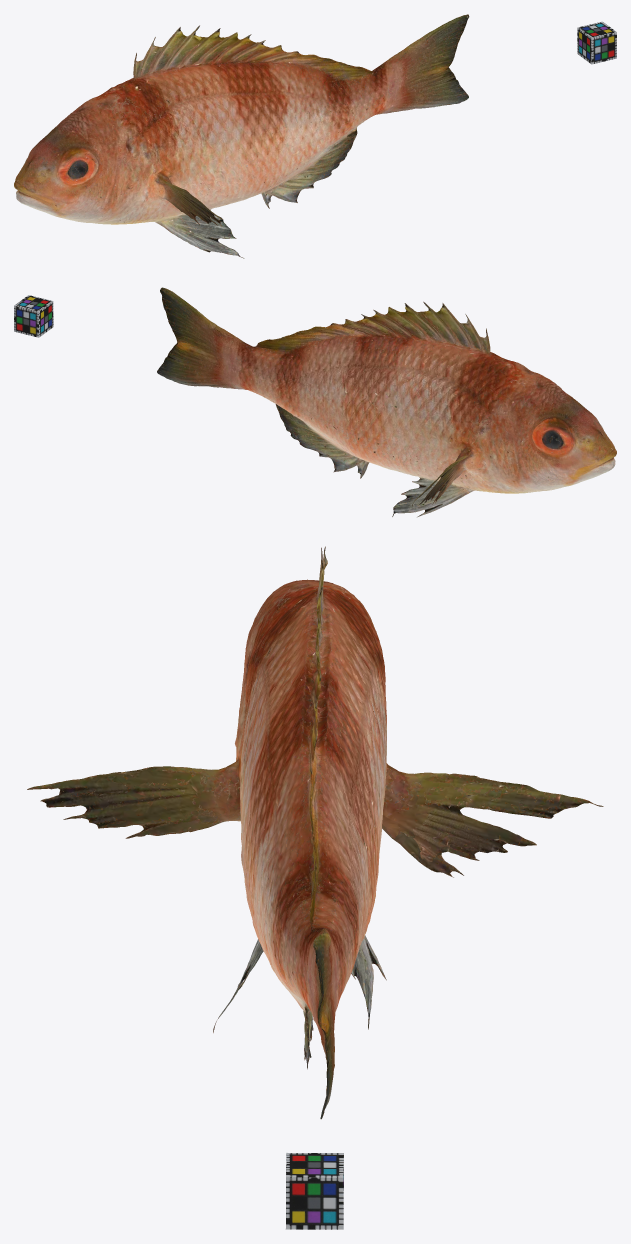
Rendered from scan_monocle_unarmed.glb.
The picture shows the model from 3 angles, top to bottom: view 1: azimuth 30°, elevation 25°; view 2: azimuth 150°, elevation 25°; view 3: azimuth 270°, elevation 25°; orthographic projection. The views are drawn at different scales.
Visible parts, largest first — view 1: Object_6, Object_4; view 2: Object_6, Object_4; view 3: Object_6, Object_4.
Part boxes in pixels (box(x1,y1,x2,y2)): Object_6: box(14, 14, 469, 258); Object_4: box(577, 21, 616, 64); Object_6: box(157, 287, 616, 517); Object_4: box(14, 295, 53, 337); Object_6: box(27, 546, 603, 1119); Object_4: box(285, 1152, 343, 1229).
Size of the model in its own units: 0.2298 by 0.0812 by 0.097.
2 materials, 2 textured.
